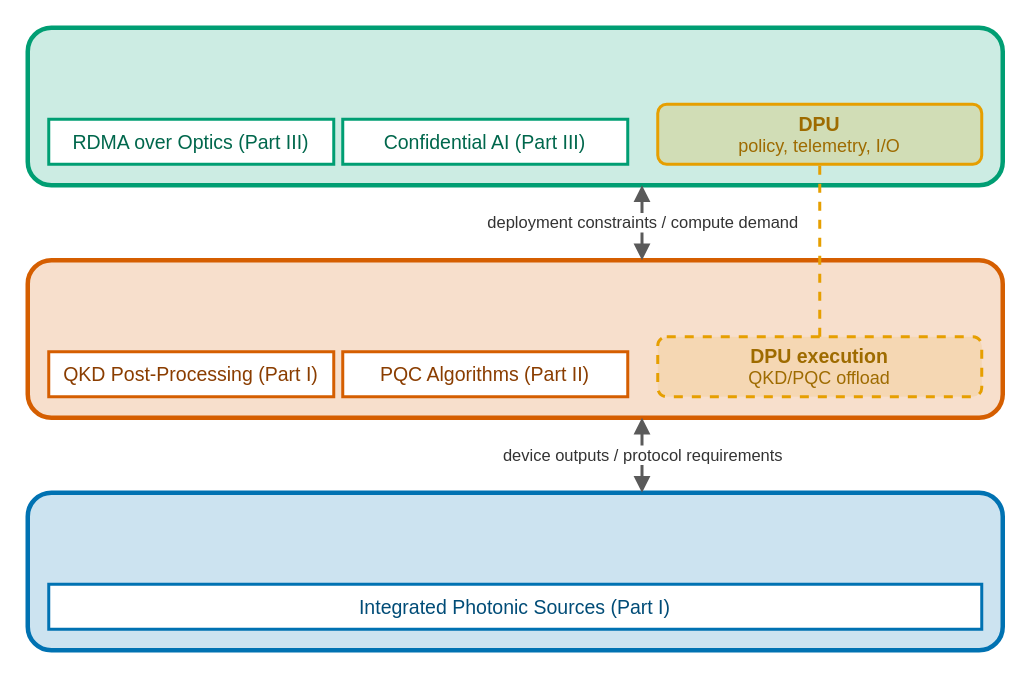
Some shapes in this 1031 by 678 pixel diagram are drawn without their labels. Here are the shapes that lost their labels. From the top down, the box of each, then its label:
(25, 25, 1004, 187): Infrastructure Layer Programmable networks, datacenter transport, TEEs
(25, 257, 1004, 419): Protocol Layer QKD post-processing, PQC algorithms (KEMs/signatures)
(25, 490, 1004, 652): Device Layer Photonic sources, physical channel, quantum states
